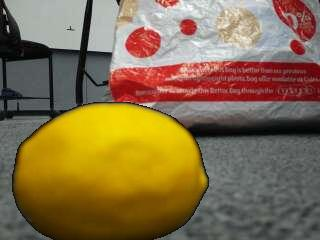lemon: (18, 101, 209, 239)
